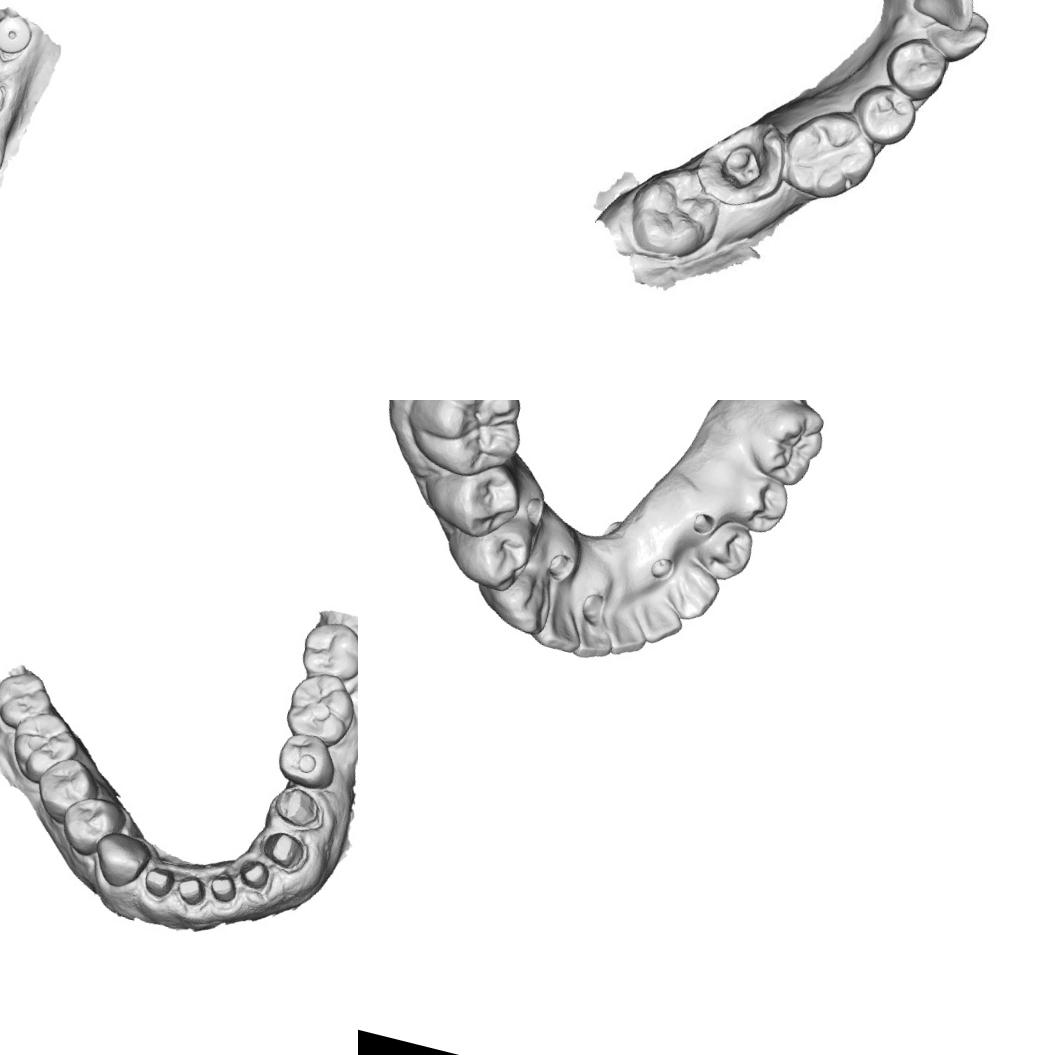canine: (483, 560, 555, 635), (918, 0, 994, 65), (657, 559, 724, 628), (87, 827, 156, 893)
crown: (268, 782, 330, 834), (258, 827, 312, 876), (234, 856, 274, 895), (139, 863, 177, 900), (204, 869, 239, 907), (174, 870, 209, 906)
implant: (0, 8, 37, 59)
incisor: (531, 588, 591, 656), (628, 598, 687, 650), (604, 604, 656, 661), (570, 611, 620, 663), (905, 0, 980, 34)
molar: (770, 97, 886, 210), (620, 156, 728, 268), (396, 400, 534, 487), (743, 400, 831, 490), (279, 666, 358, 747), (6, 707, 85, 780), (295, 614, 358, 686), (0, 665, 57, 734)
premolar: (442, 458, 524, 542), (458, 512, 536, 593), (878, 29, 954, 104), (54, 789, 130, 864), (846, 76, 922, 150), (725, 462, 797, 538), (30, 750, 106, 821), (270, 728, 344, 793), (696, 513, 759, 584)
